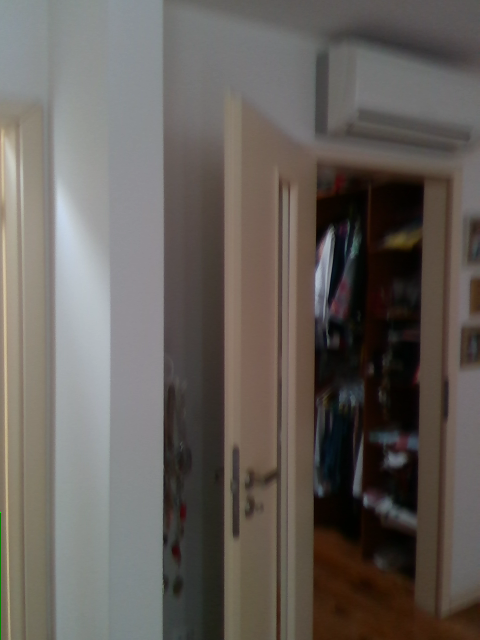open: (217, 91, 461, 639)
